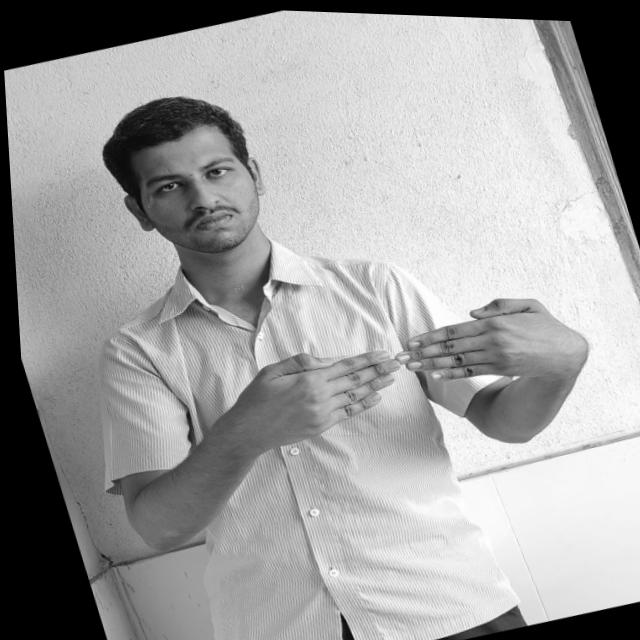Night: (214, 276, 577, 455)
